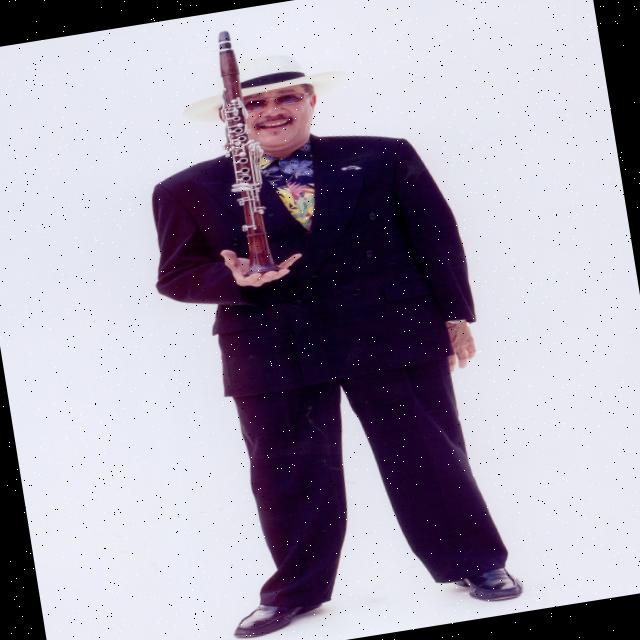clarinet: (202, 25, 288, 284)
